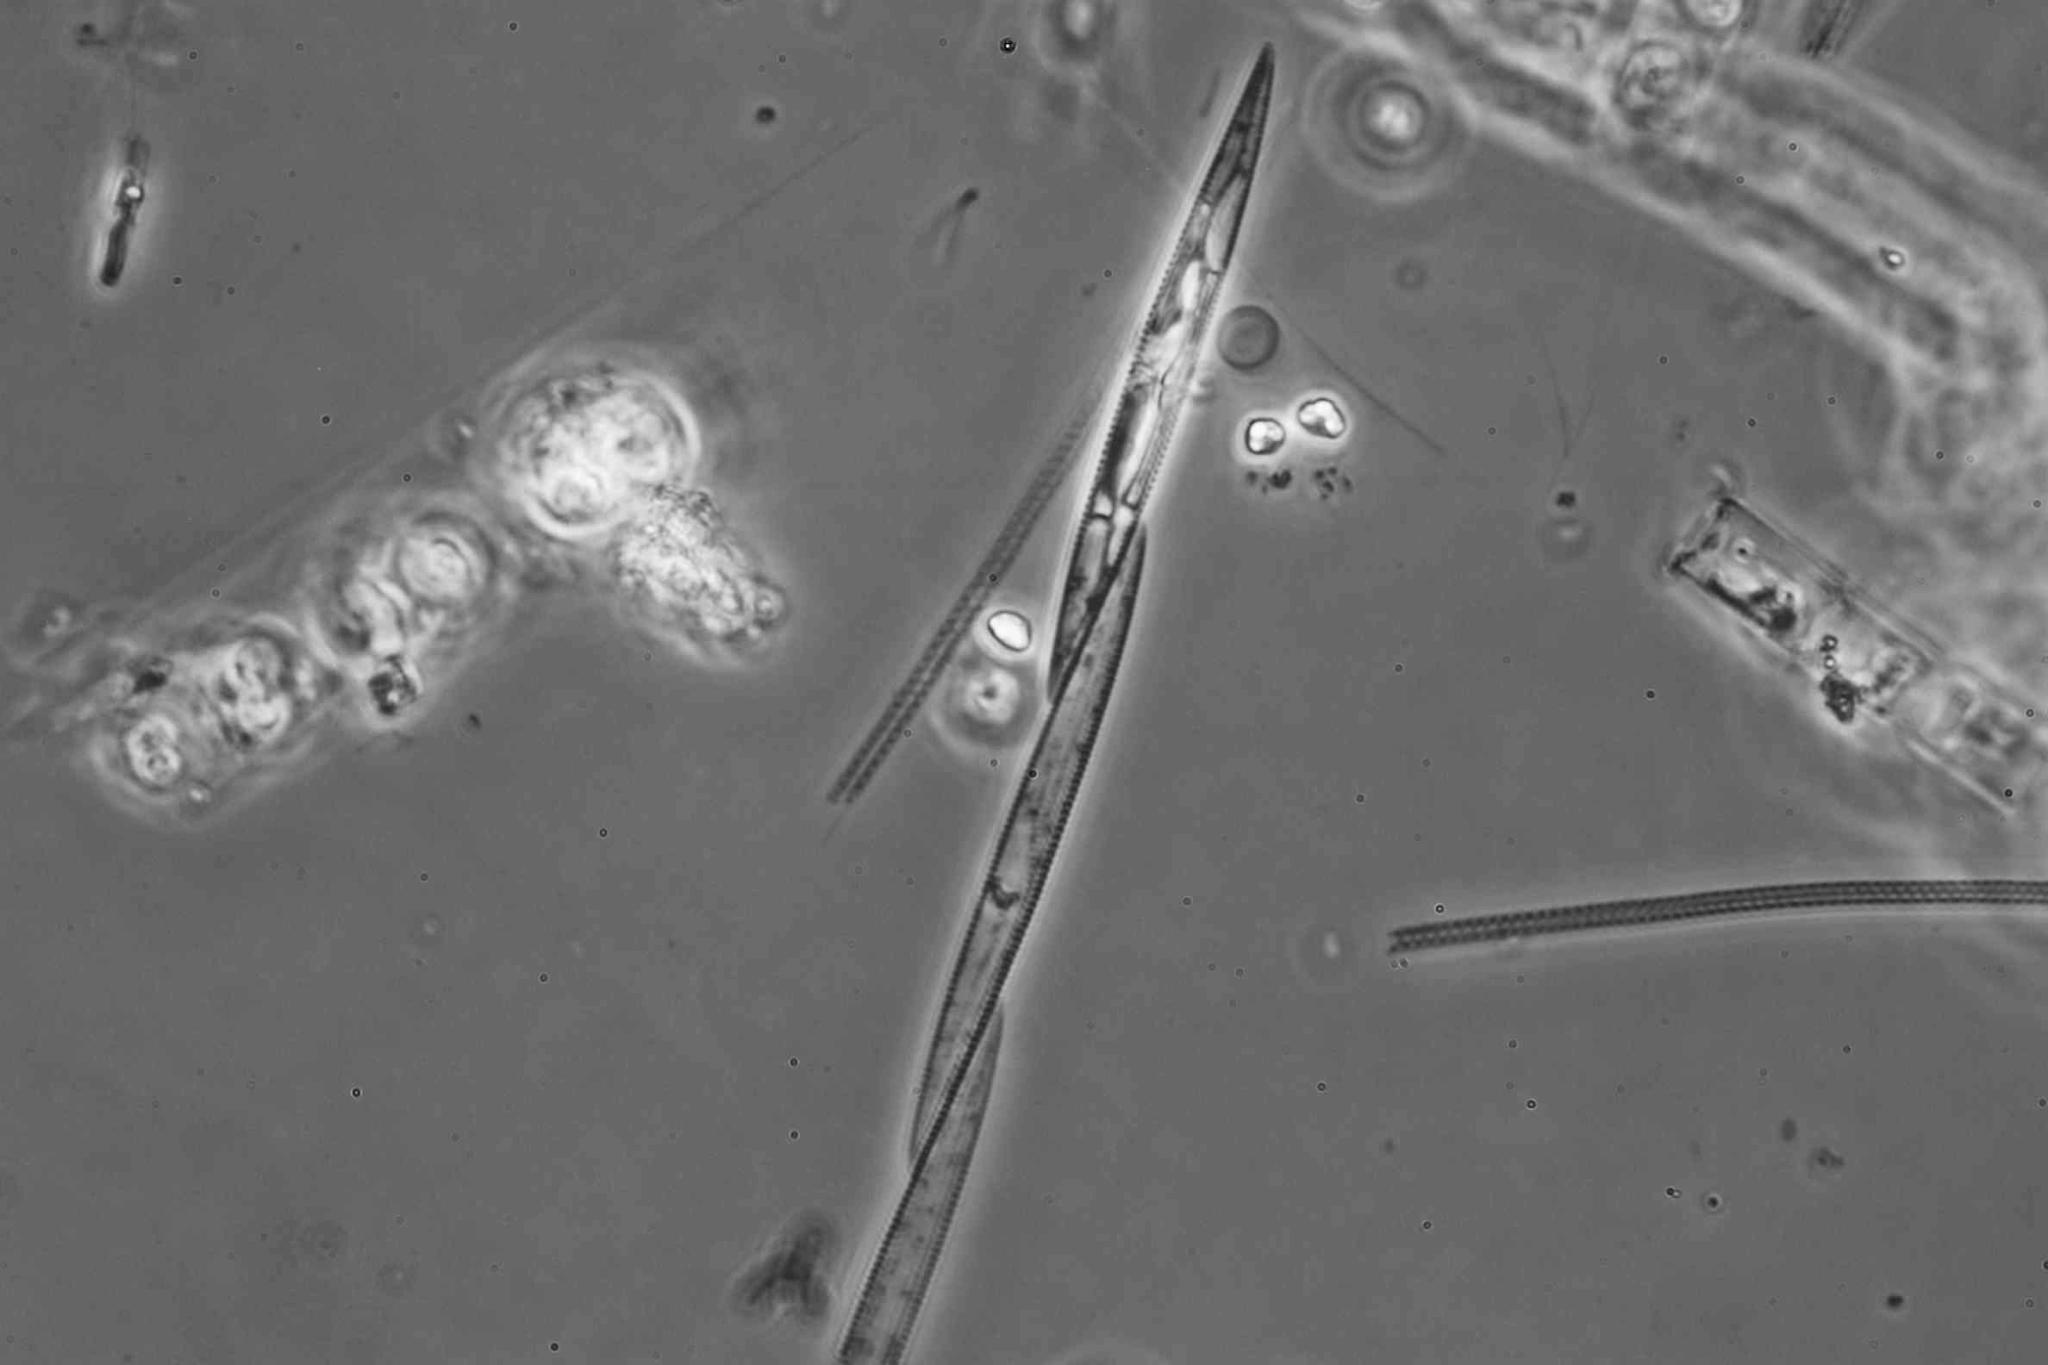pseudo_nitzschia: (830, 41, 1273, 1365)
